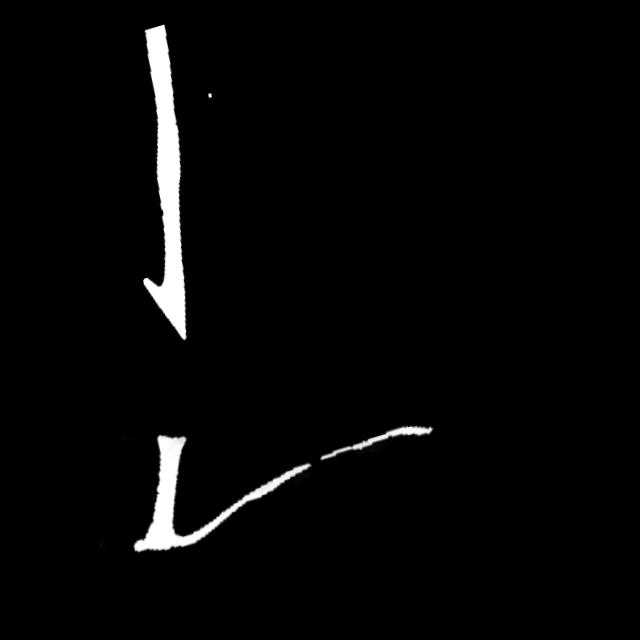sup: (305, 448, 338, 479)
